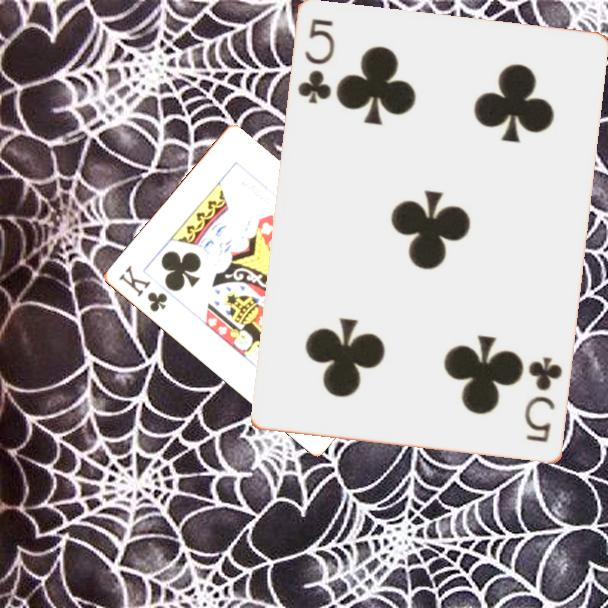c05: (521, 354, 566, 446), (294, 15, 339, 107)
c13: (114, 262, 170, 315)
